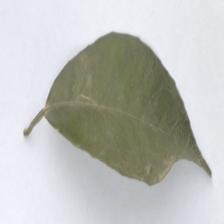healthy: (43, 30, 213, 190)
